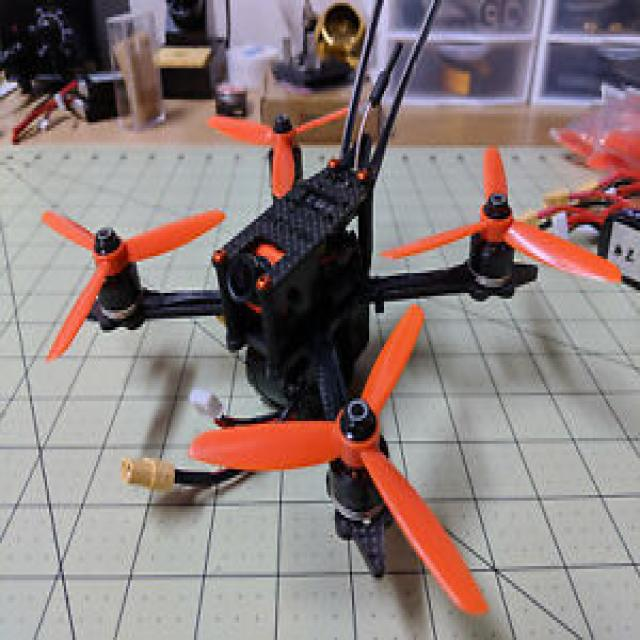drone: (43, 64, 586, 598)
